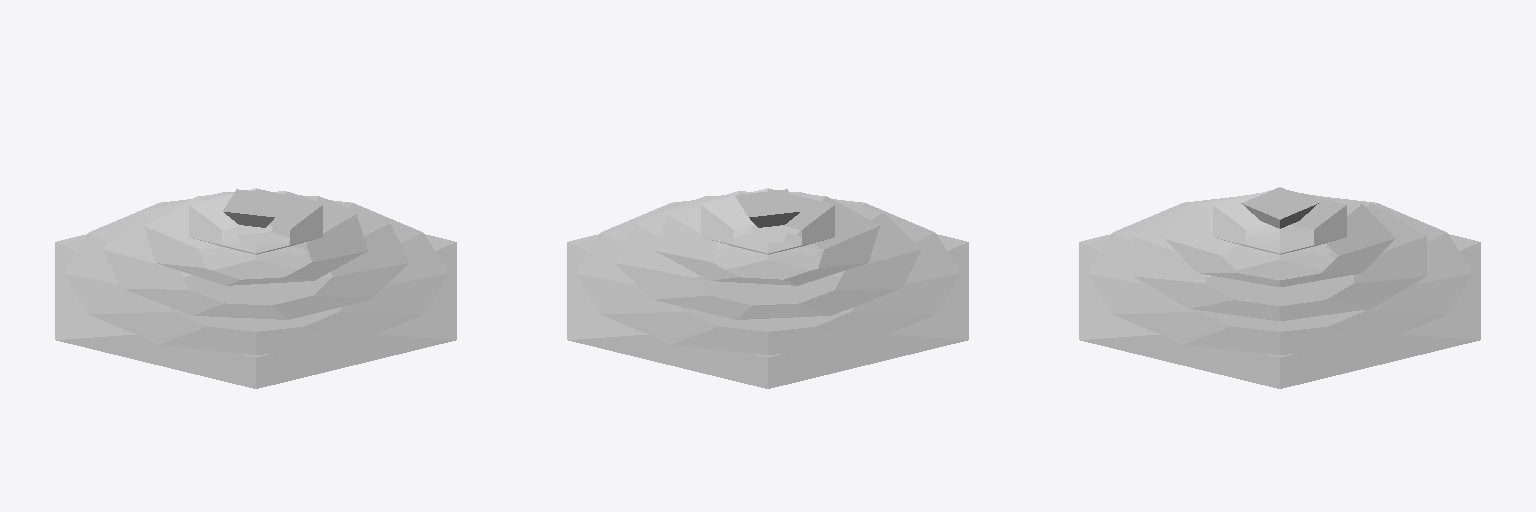
File: Fuente.obj
3 renders of one model, left to right at view 1: azimuth 30°, elevation 25°; view 2: azimuth 150°, elevation 25°; view 3: azimuth 270°, elevation 25°, orthographic.
Bounding box in the file's own units: 24 × 6 × 20.78.